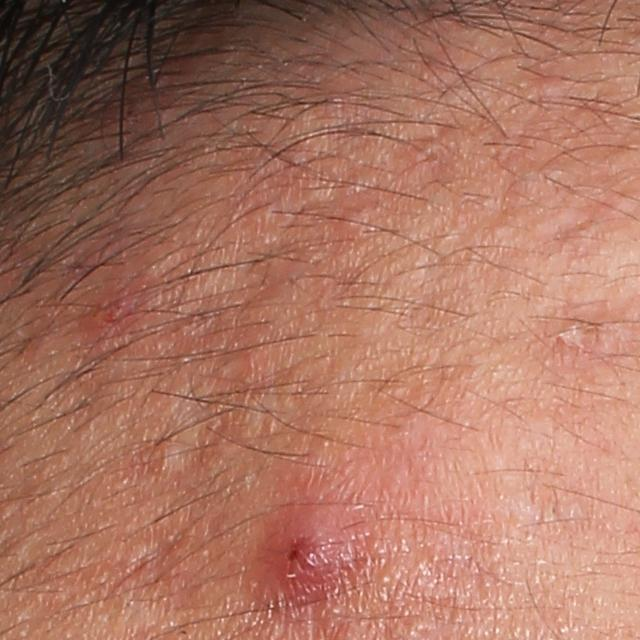comedo: (531, 68, 566, 97)
